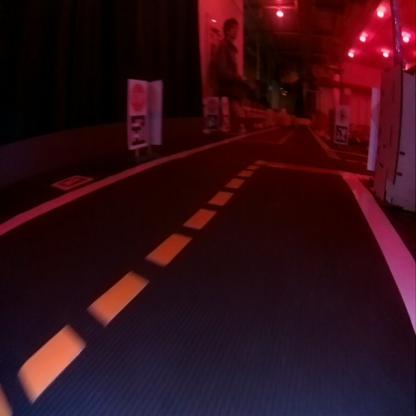Intersection sign: (336, 106, 348, 122)
QR code: (53, 173, 91, 190), (130, 117, 146, 146), (206, 114, 216, 128)
Stop sign: (130, 84, 146, 108), (206, 97, 216, 113)
